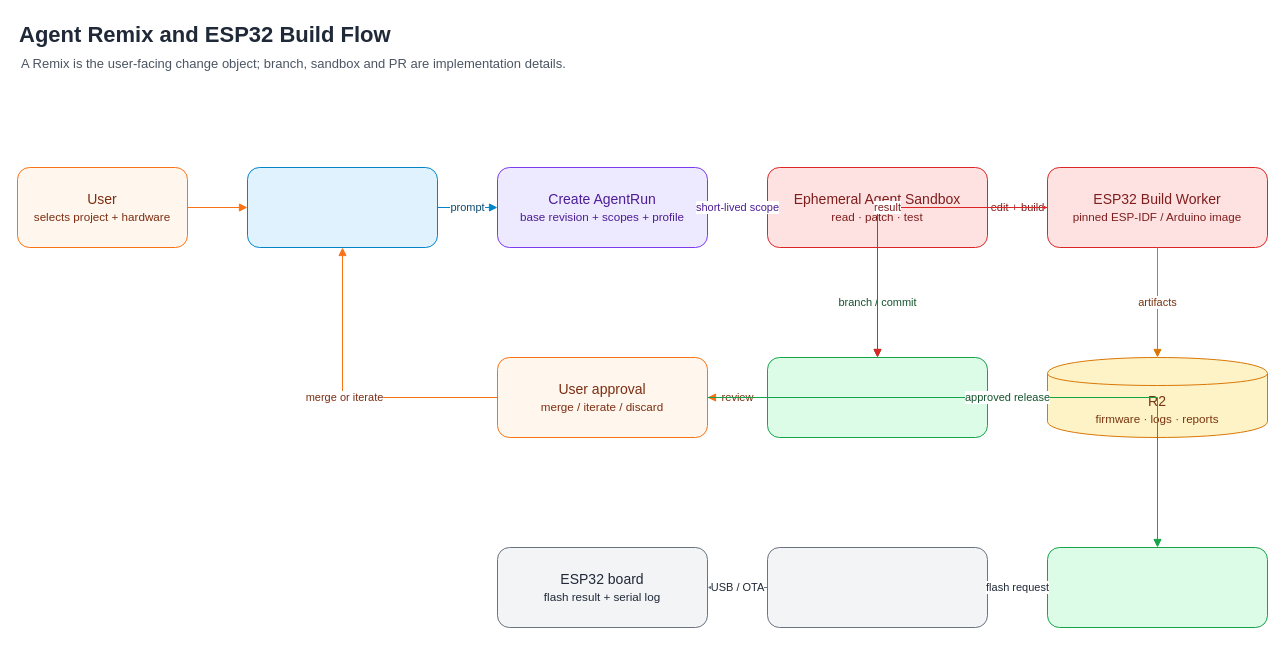
The diagram is 1285 pixels wide and 645 high, and some of its shapes have lost their labels. Here are the shapes that lost their labels. From the top down, the centre of each, then its label:
At pixel 342 207: "Web Coding prompt / guided change".
At pixel 877 397: "Change Request / PR diff · logs · size · candidate".
At pixel 877 587: "Device Bridge explicit flash approval".
At pixel 1157 587: "Firmware Release manifest + hash + signature status".
